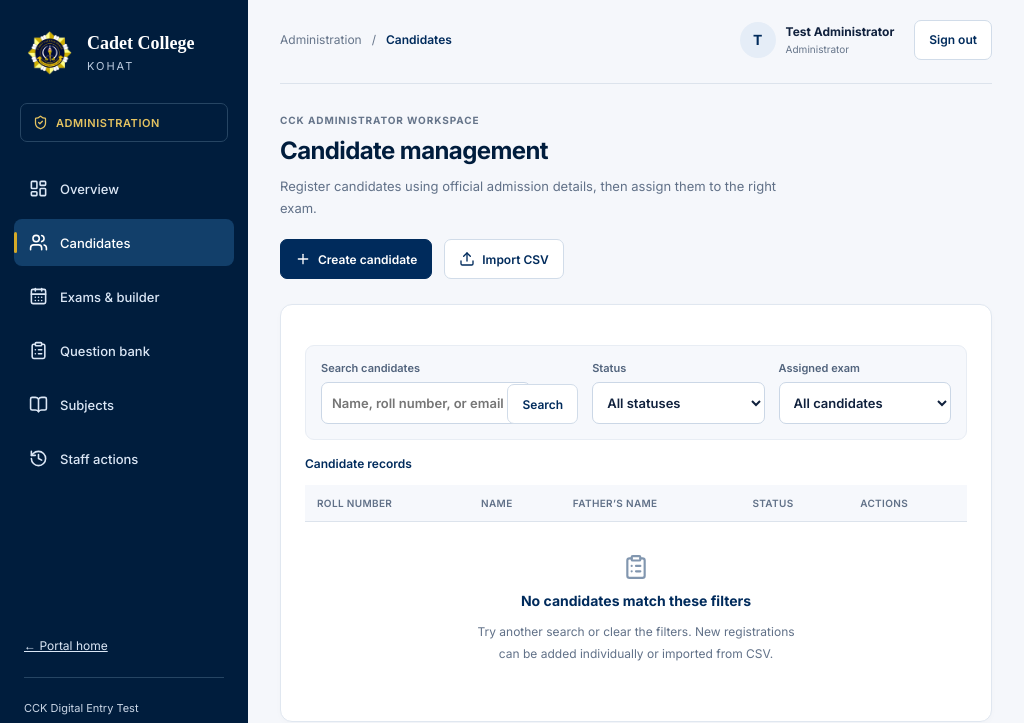
it: administrator access and workflows › creates an approved candidate with CSRF and retains the form on a failed save
Click the button "Create candidate".
click(356, 259)  # box [280,239,432,279]
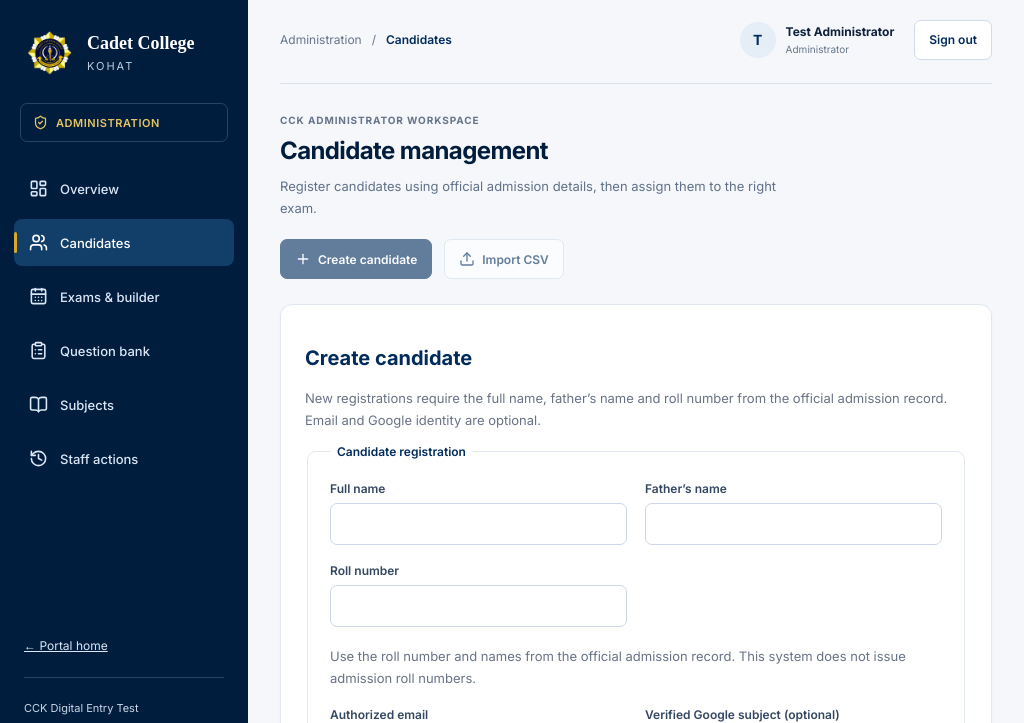
Type "محمد احمد" into the field labelled "Full name".
click(478, 524); type("محمد احمد")  # box [330,503,627,545]
Type "محمد کامران" into the field labelled "Father’s name".
click(794, 524); type("محمد کامران")  # box [645,503,942,545]
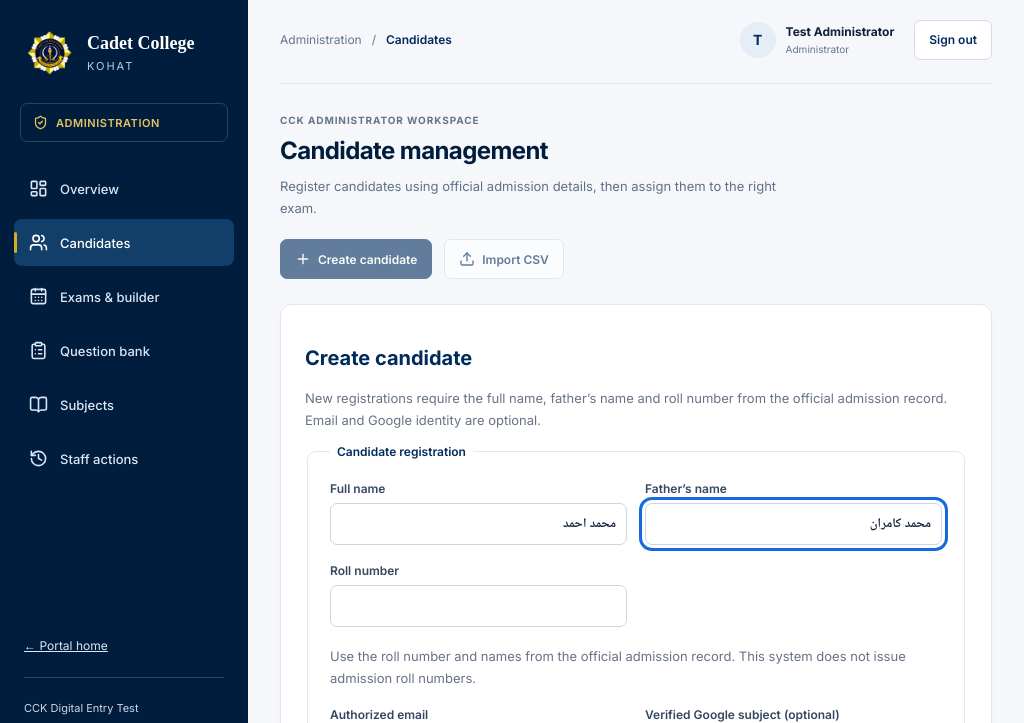
Type "CCK-201" into the field labelled "Roll number".
click(478, 606); type("CCK-201")  # box [330,585,627,627]
(page scrolled)
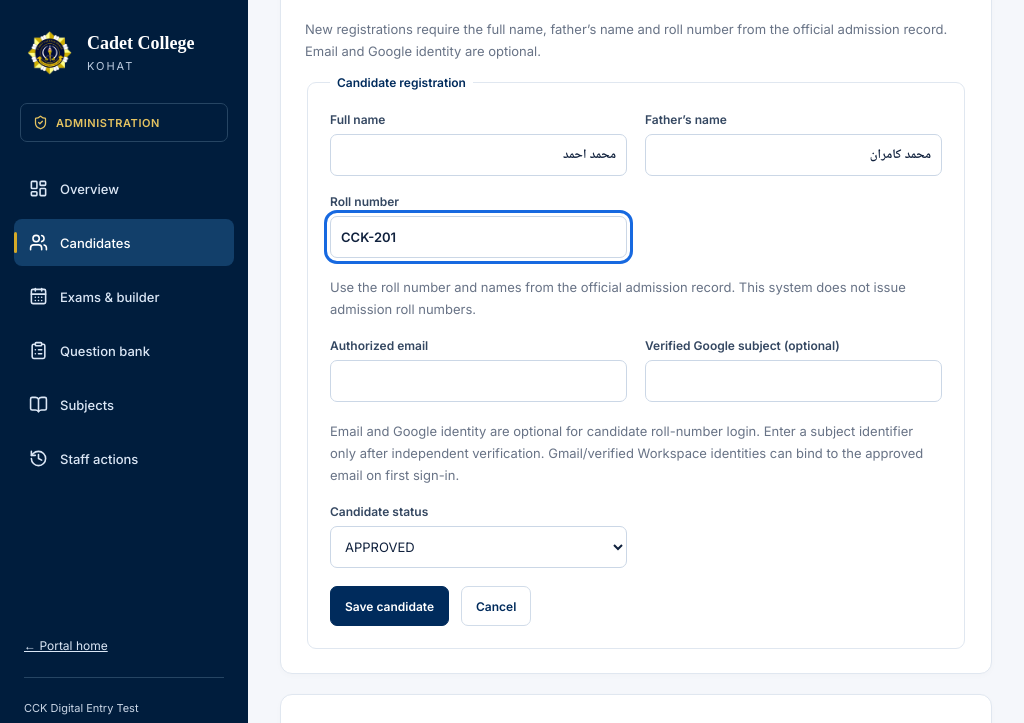
Type "approved@gmail.com" into the field labelled "Authorized email".
click(478, 381); type("approved@gmail.com")  # box [330,360,627,402]
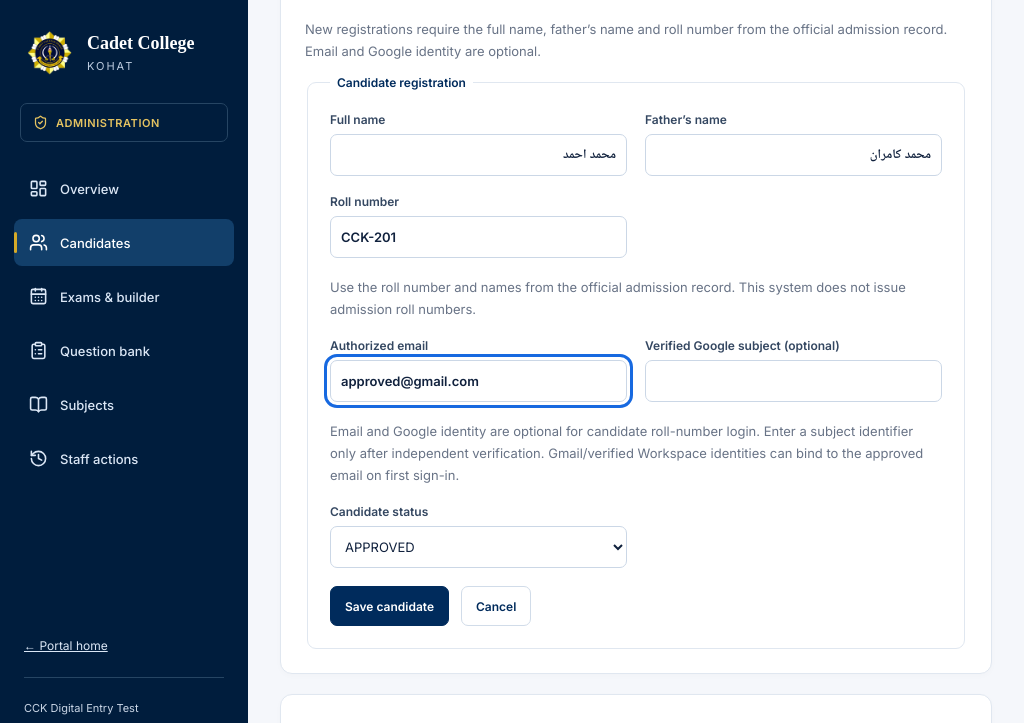
Click the button "Save candidate".
click(390, 606)  # box [330,586,449,626]
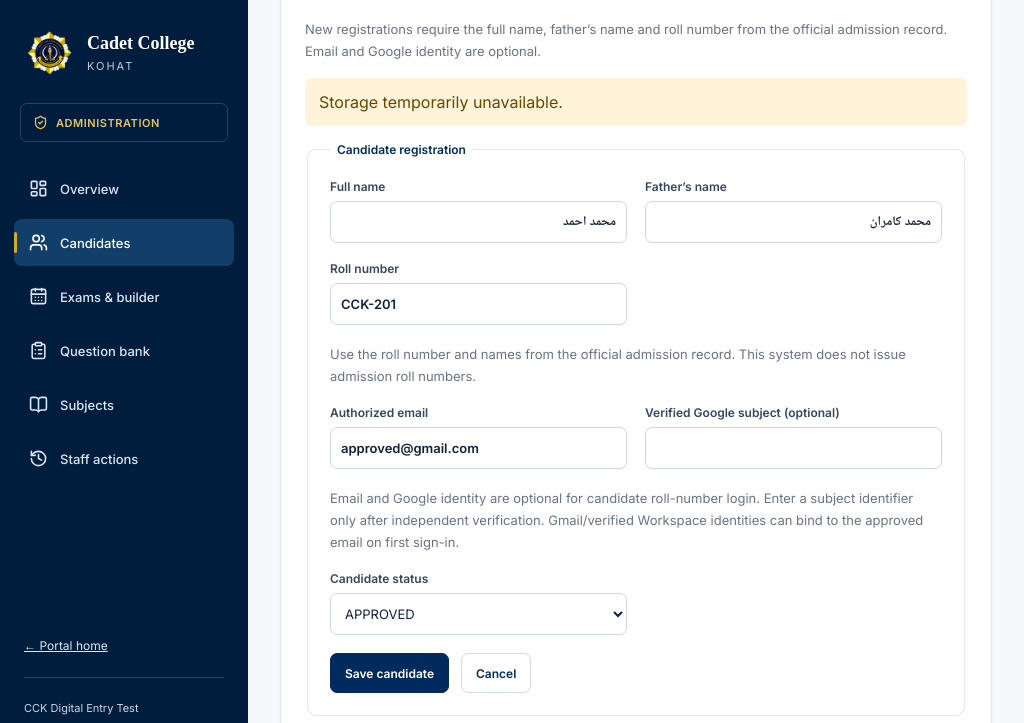
Now the message reads "Storage temporarily unavailable.", box [319,92,563,112]
Click the button "Save candidate".
click(390, 673)  # box [330,653,449,693]
(page scrolled)
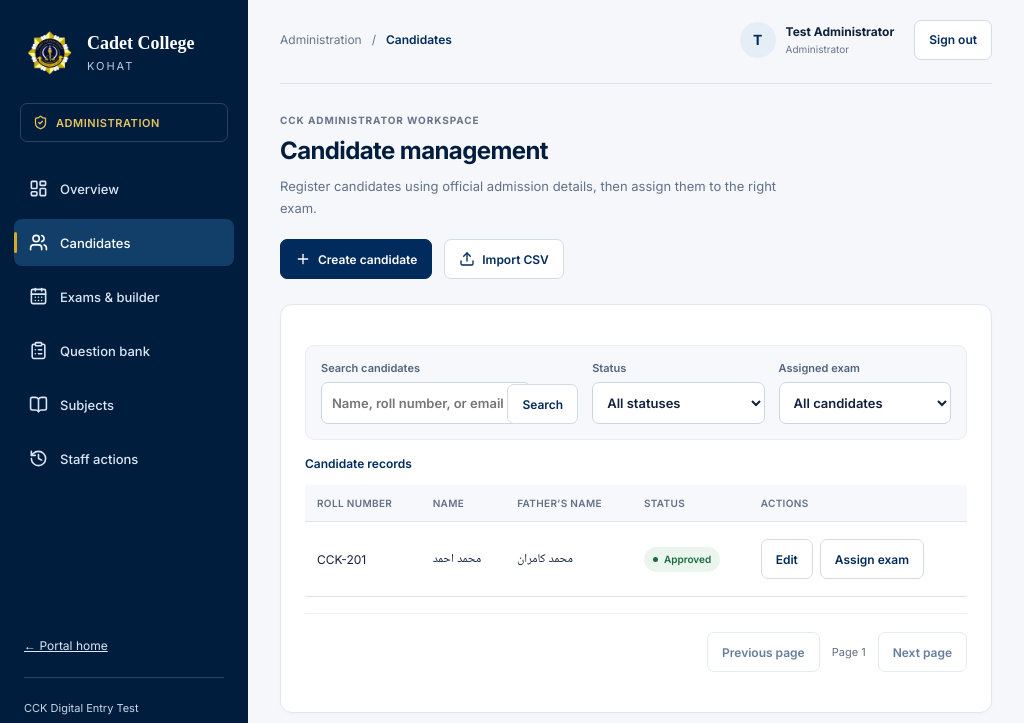
Now the button with aria-label "Edit CCK-201" is shown, box [761,539,813,579]
